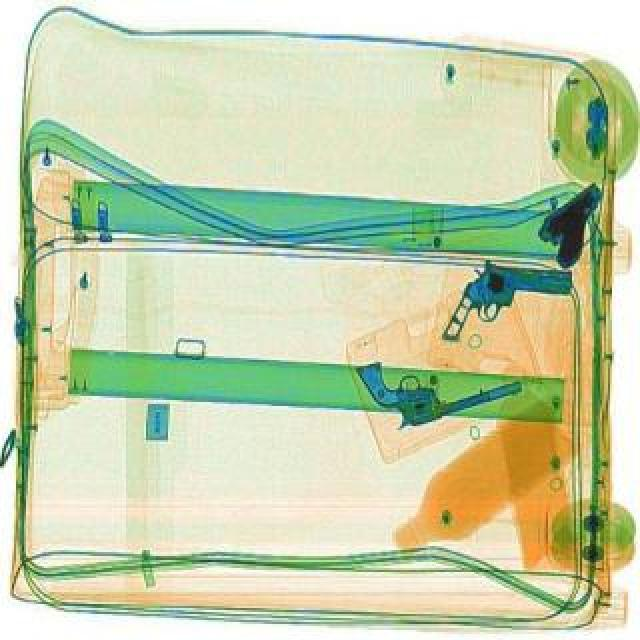gun: (356, 330, 528, 434), (418, 240, 588, 344), (528, 172, 626, 272)
